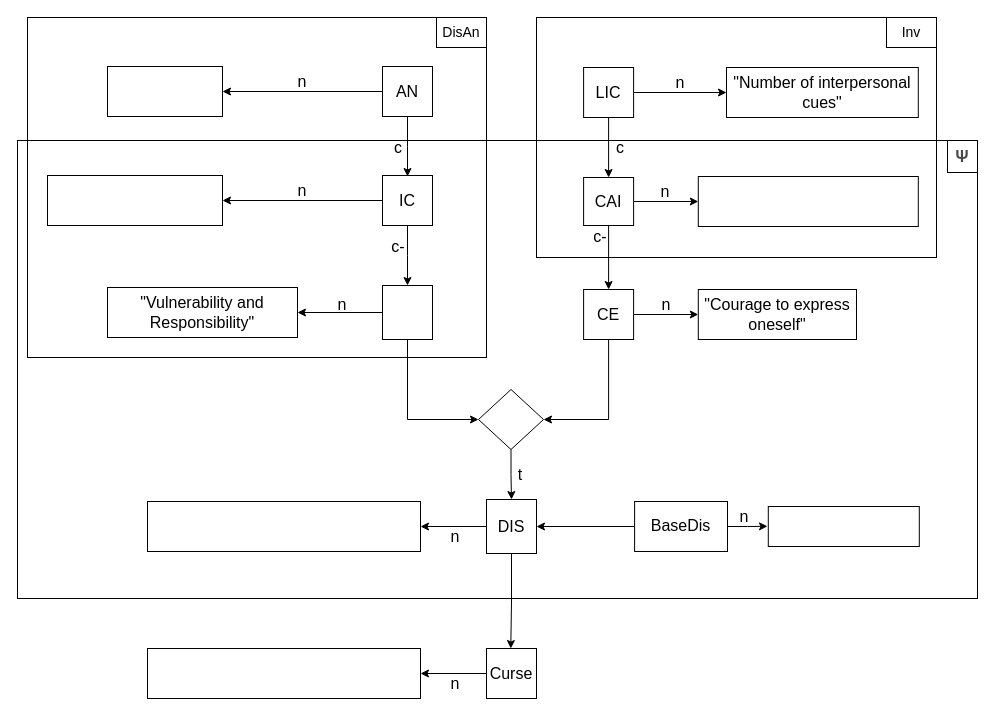
Some shapes in this 995 by 716 pixel diagram are drawn without their labels. Each missing label, with the centre of its shape:
"Anonymity": point 164,91
"Base Di sinhibition": point 843,526
"Concern about impression on others": point 807,201
"Di sinhibition": point 283,526
"Identity compartimentalization": point 134,200
"Number of curse words": point 283,673
VR: point 407,312
